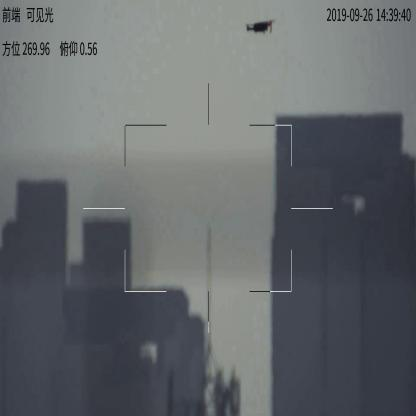uav: (240, 18, 274, 39)
